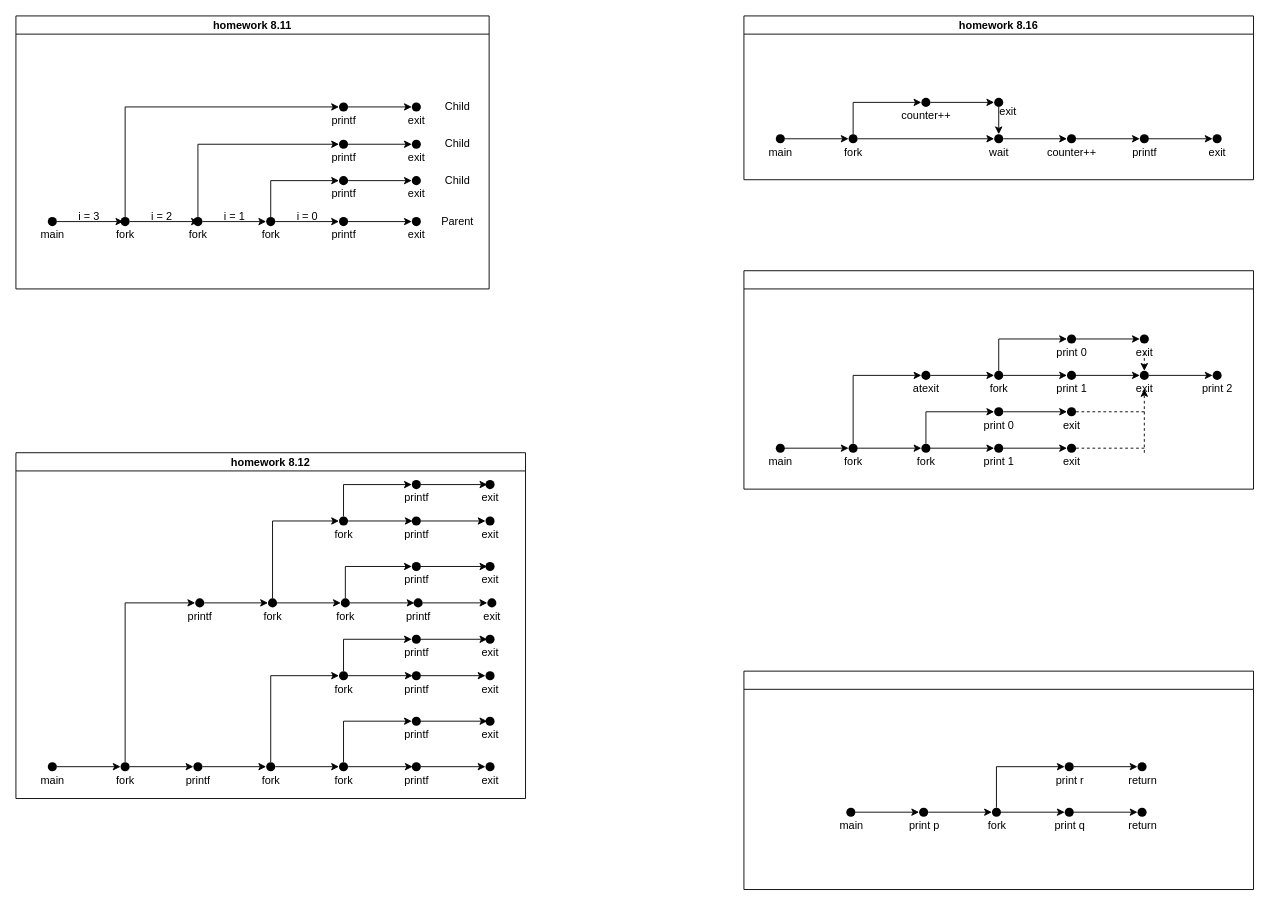
The diagram is 1269 pixels wide and 905 high, and some of its shapes have lost their labels. The shapes that lost their labels are listed below. From the top down, each one's centre as x and y in pixels, then its label:
the point at 998,379: homework 8.18
the point at 998,780: homework 8.21
